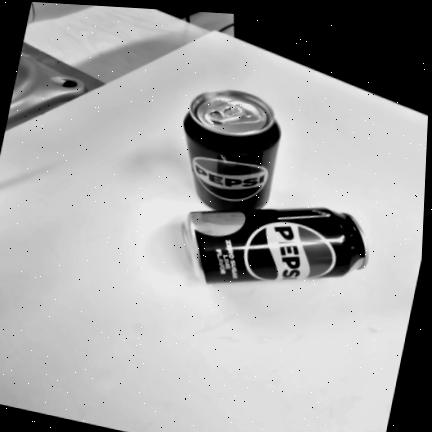can_pepsi: (185, 91, 280, 213)
can_pepsi_zero: (180, 208, 367, 284)
